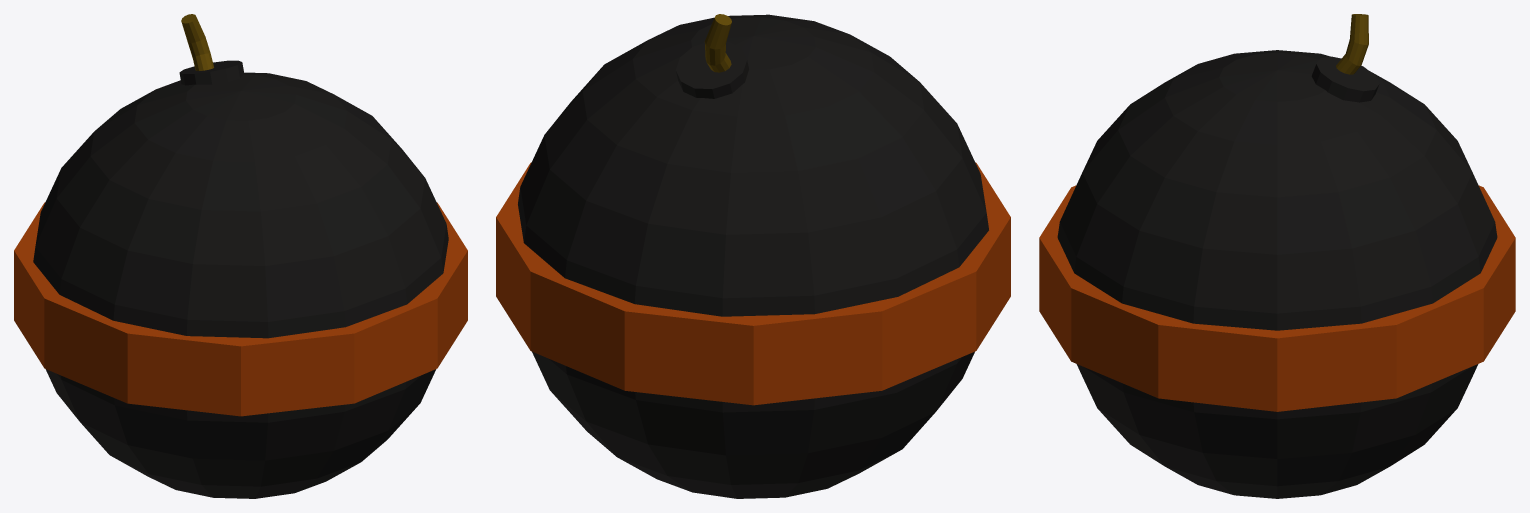
File: bomb_model.dae
3 views of the same model, side by side, from view 1: azimuth 30°, elevation 25°; view 2: azimuth 150°, elevation 25°; view 3: azimuth 270°, elevation 25° (orthographic). The views are drawn at different scales.
Visible parts, largest first — view 1: Sphere; view 2: Sphere; view 3: Sphere.
Boxes of the visible parts, x1,y1,x2,y2 form: Sphere: [14, 14, 467, 498]; Sphere: [496, 14, 1010, 498]; Sphere: [1039, 14, 1515, 498].
Bounding box in the file's own units: 0.4665 × 0.4665 × 0.4967.
